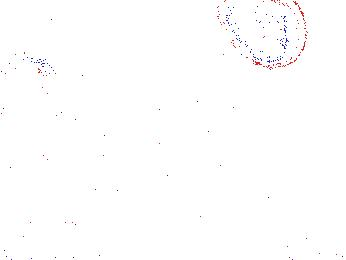moon jellyfish: (139, 18, 245, 111), (217, 1, 308, 69), (103, 1, 197, 58), (65, 12, 130, 79), (1, 52, 55, 120)
